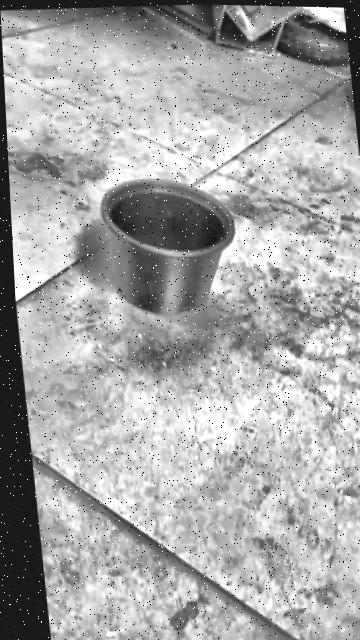pot: (96, 172, 243, 318)
